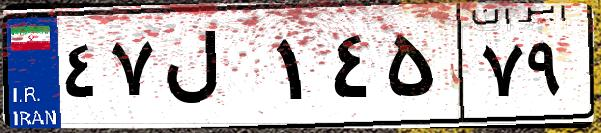1: (270, 28, 330, 110)
4: (330, 28, 385, 110), (57, 26, 110, 100)
5: (385, 28, 445, 110)
7: (475, 38, 525, 113), (110, 28, 158, 98)
9: (525, 38, 570, 115)
ل: (158, 20, 270, 120)
